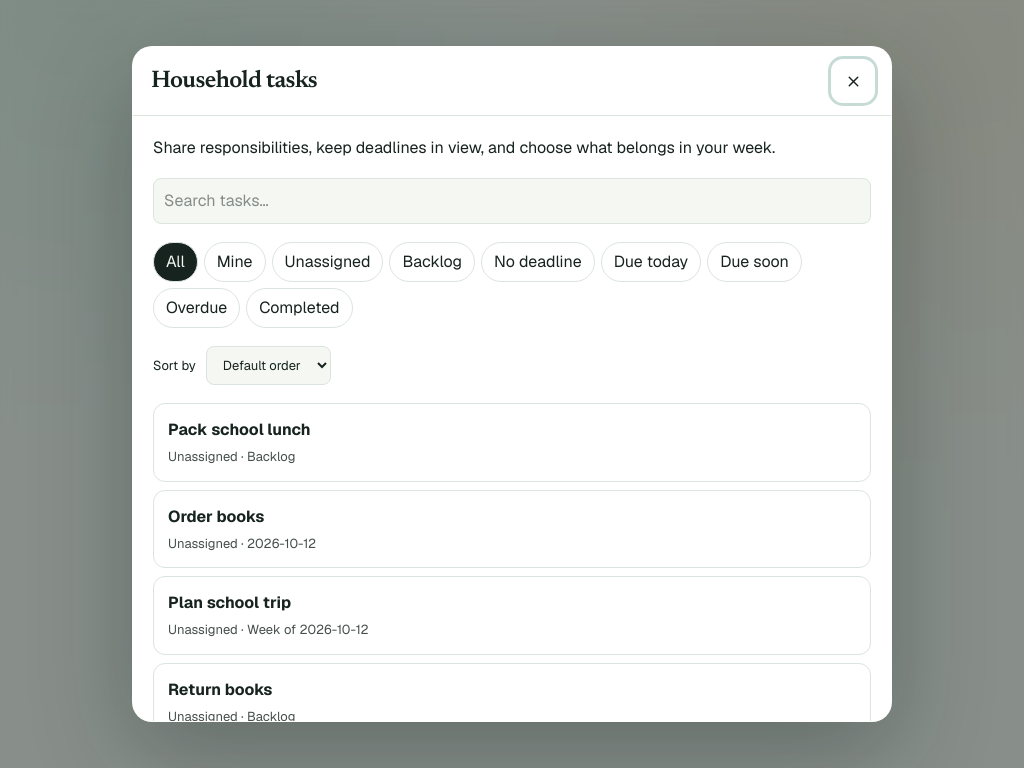
Test case: task workspace search › lets read-only members find tasks without deadlines and compose search without writes
Expected: the button "Pack school lunch Unassigned · Backlog" is shown, x1=168 y1=418 x2=856 y2=467
Click the button "No deadline" at (538, 262), box x1=481 y1=242 x2=595 y2=282
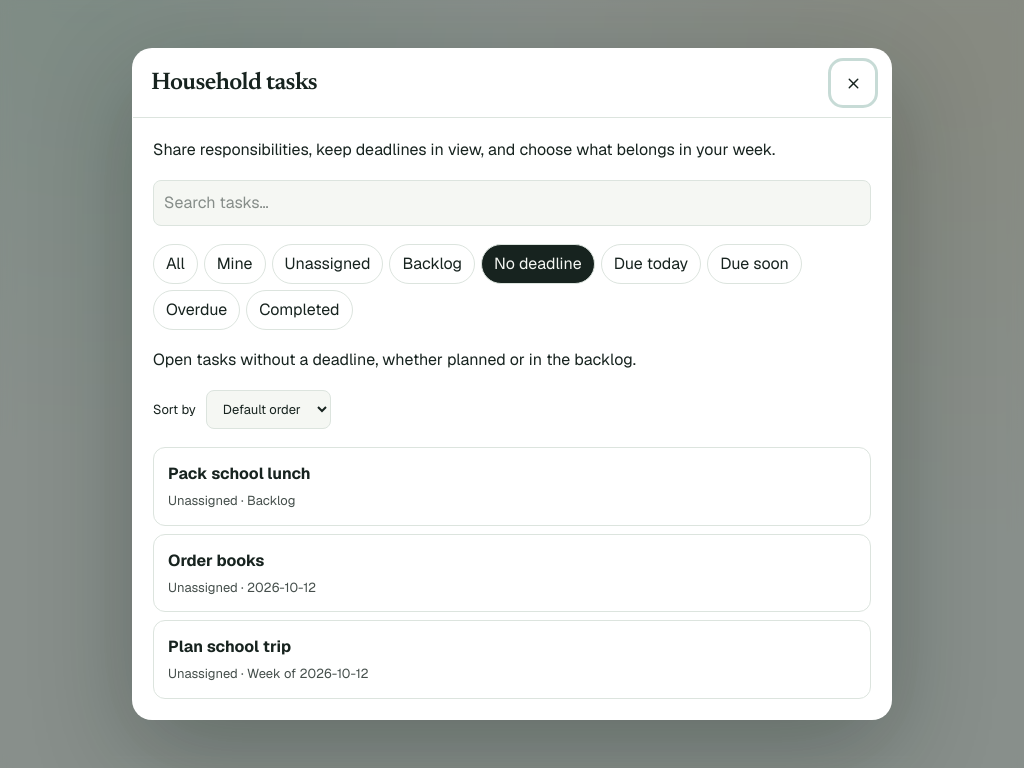
Expected: the button "Pack school lunch Unassigned · Backlog" is shown, x1=168 y1=462 x2=856 y2=511
Expected: the text "Open tasks without a deadline, whether planned or in the backlog." is shown, x1=153 y1=349 x2=636 y2=370
Expected: the button "Return books" is gone
Type "  LUNCH  " into the search field labelled "Search tasks" at (512, 203), box x1=153 y1=180 x2=871 y2=226
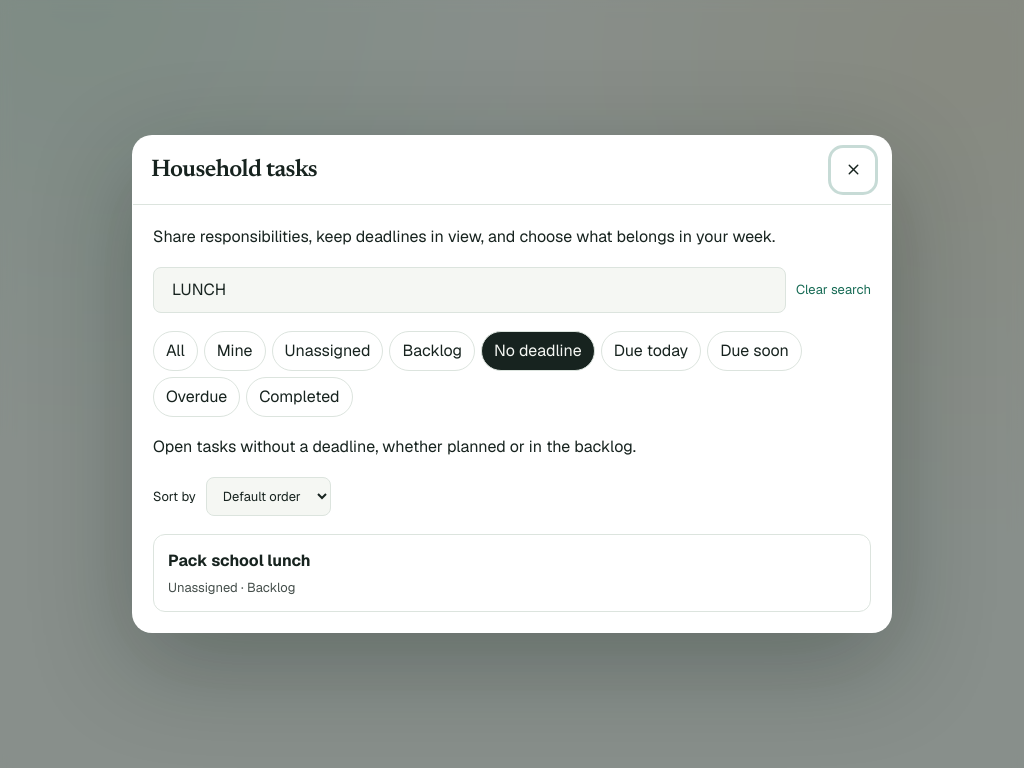
Expected: the button "Pack school lunch Unassigned · Backlog" is shown, x1=168 y1=549 x2=856 y2=597
Expected: the button "Order books" is gone
Replace the text in the search field named "Search tasks" with "missing" at (469, 290), box x1=153 y1=267 x2=786 y2=313
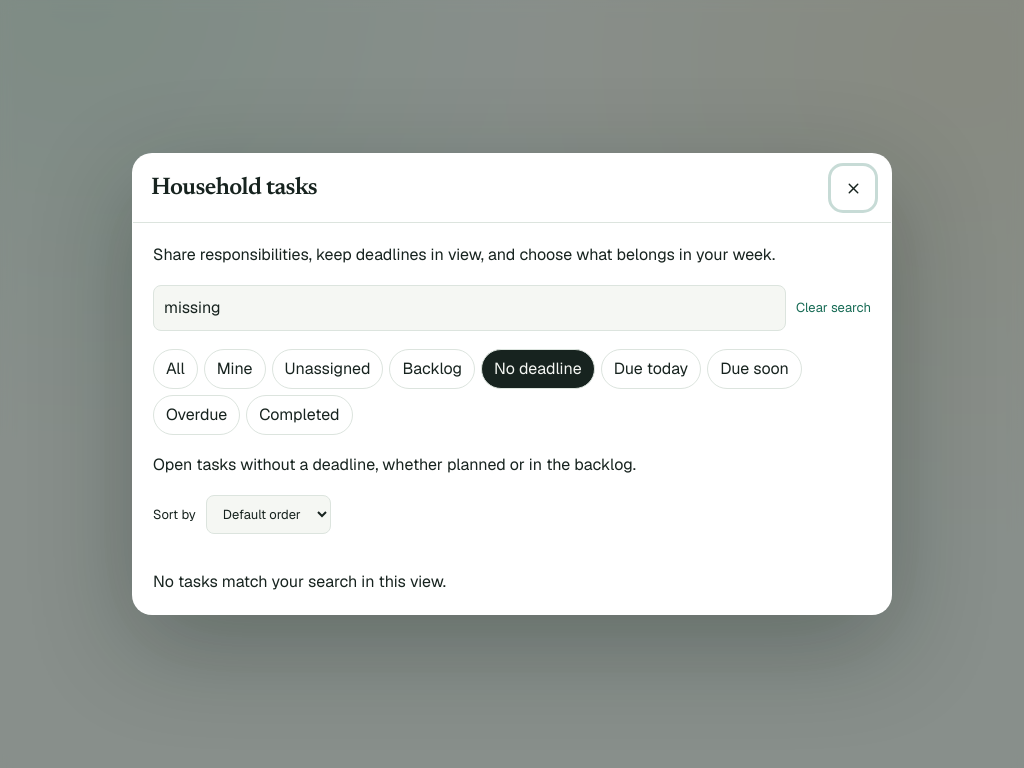
Expected: the message reads "No tasks match your search in this view.", x1=153 y1=571 x2=446 y2=592
Click the button "Clear search" at (833, 308), box x1=796 y1=298 x2=871 y2=318
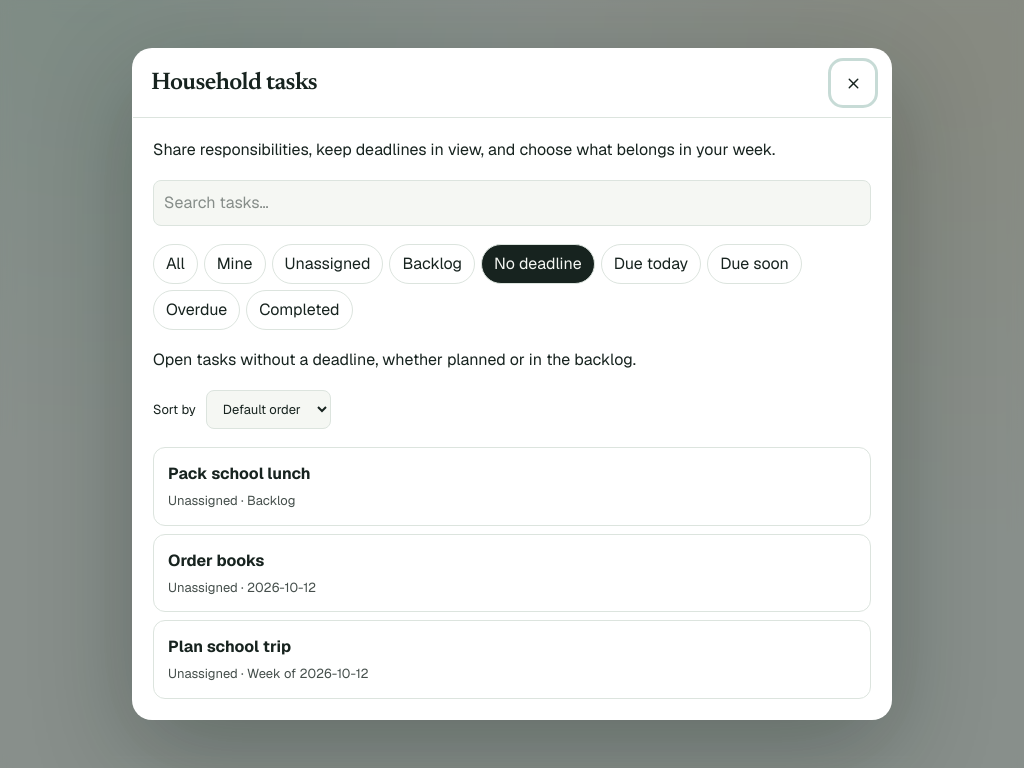
Expected: the button "Order books Unassigned · 2026-10-12" is shown, x1=168 y1=549 x2=856 y2=597
